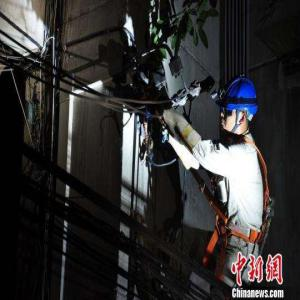blue: (221, 78, 256, 140)
